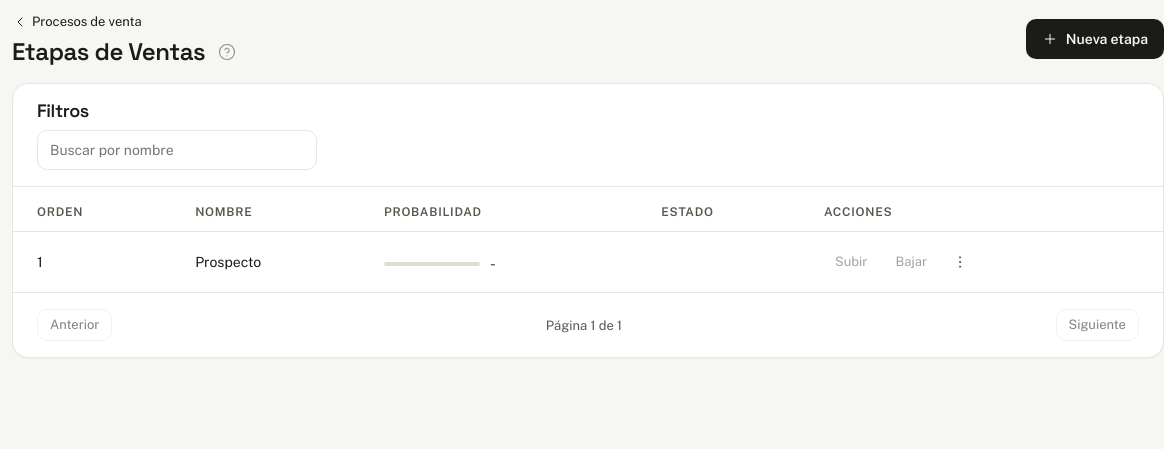
Test: StageListPage › S19 eliminar etapa: cancelar no envía DELETE, confirmar sí, y un error se muestra visible
This screenshot has width=1164, height=449.
Expected: the text "Prospecto" is shown, [179,232,368,292]
Click the button named "Más acciones": (960, 262) [944,246,976,278]
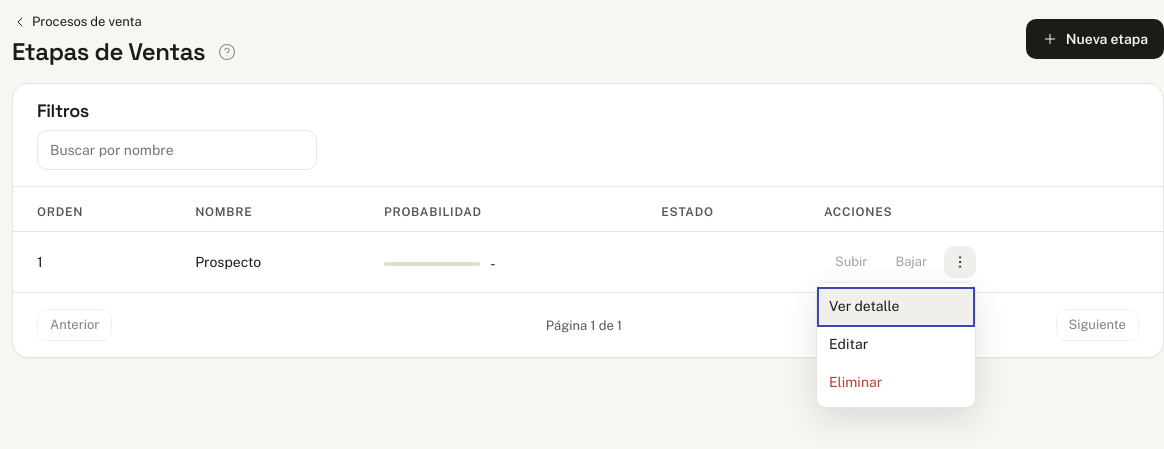
Click the menu item "Eliminar": (896, 383) [817,363,975,403]
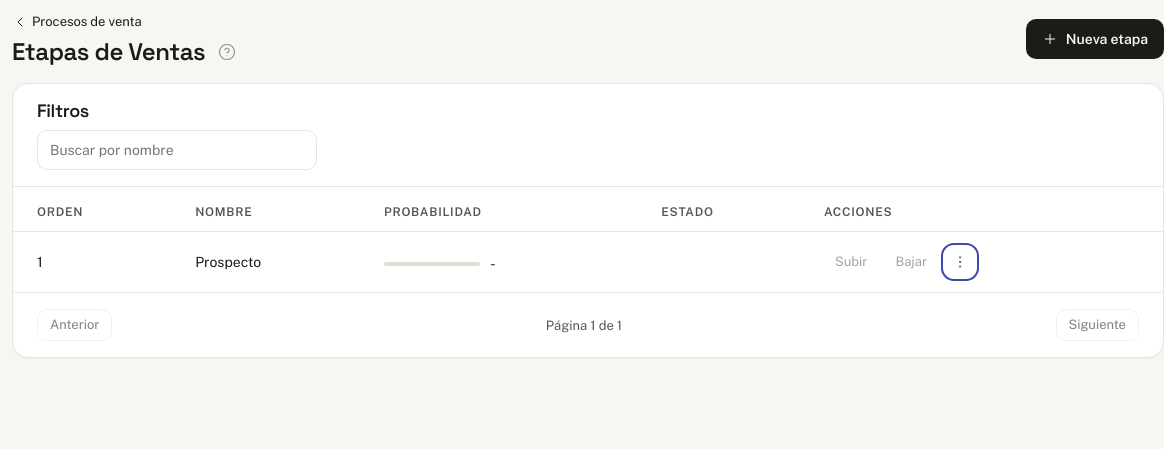
Click the button named "Más acciones": (960, 262) [944,246,976,278]
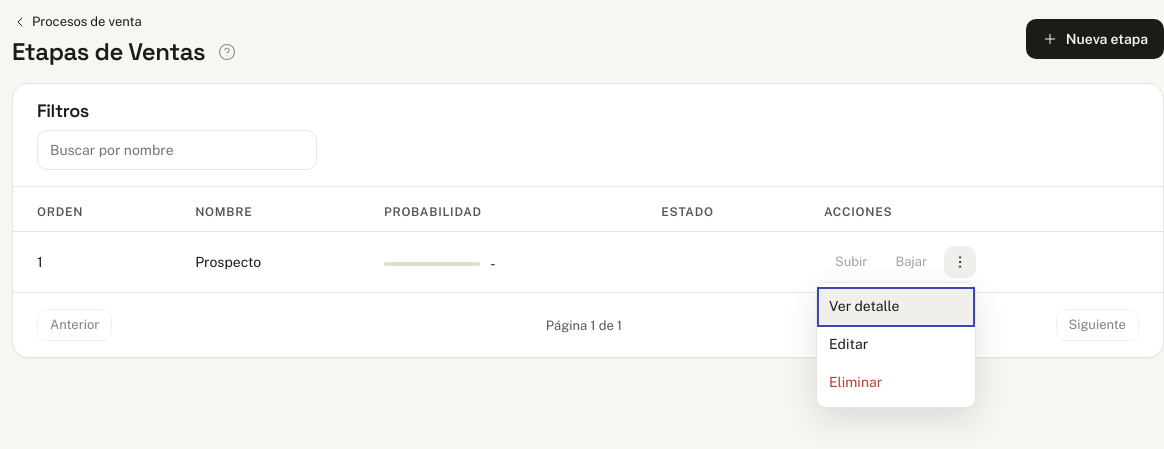
Click the menu item "Eliminar": (896, 383) [817,363,975,403]
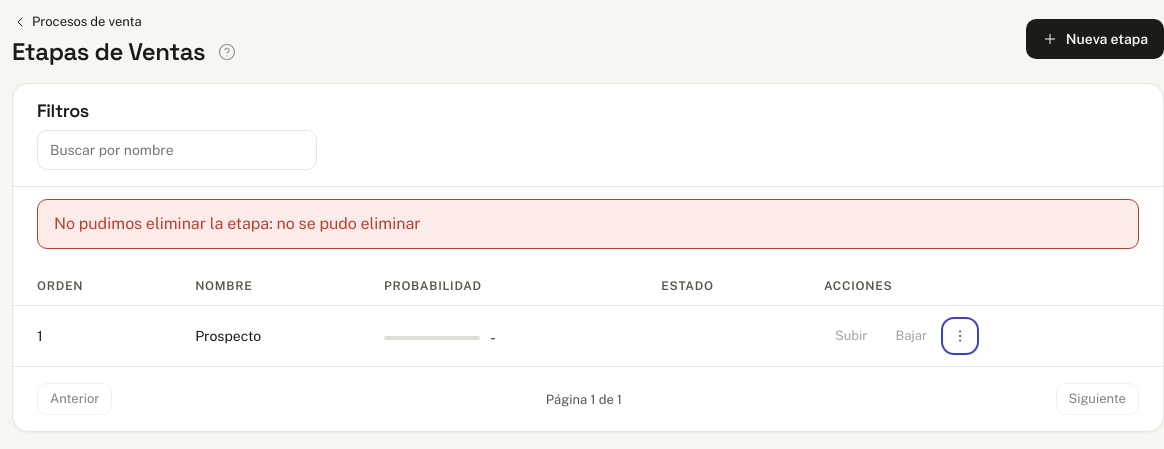
Expected: the message shows "no se pudo eliminar", [269,214,421,233]
